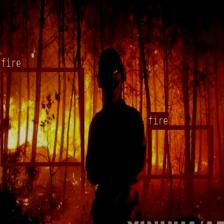fire: (0, 68, 83, 166), (147, 125, 213, 178)
